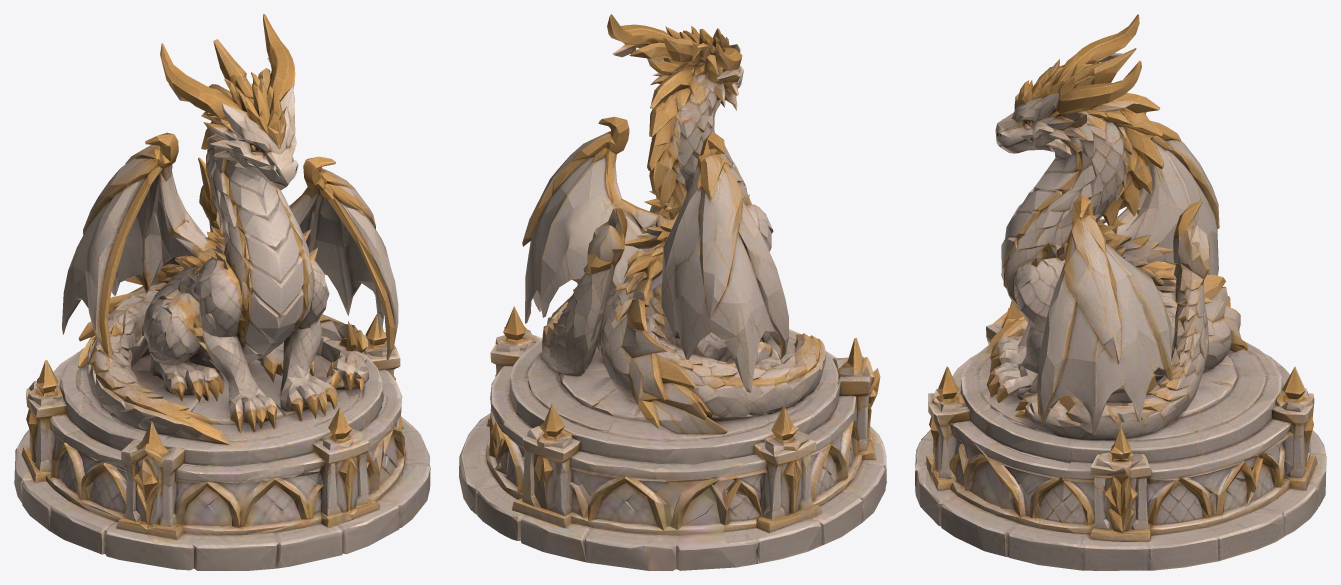
Rendered from statue.glb.
3 views of the same model, side by side, from view 1: azimuth 30°, elevation 25°; view 2: azimuth 150°, elevation 25°; view 3: azimuth 270°, elevation 25° (orthographic). The views are drawn at different scales.
Bounding box in the file's own units: 1.59 × 1.9 × 1.58.
1 material, 1 textured.
